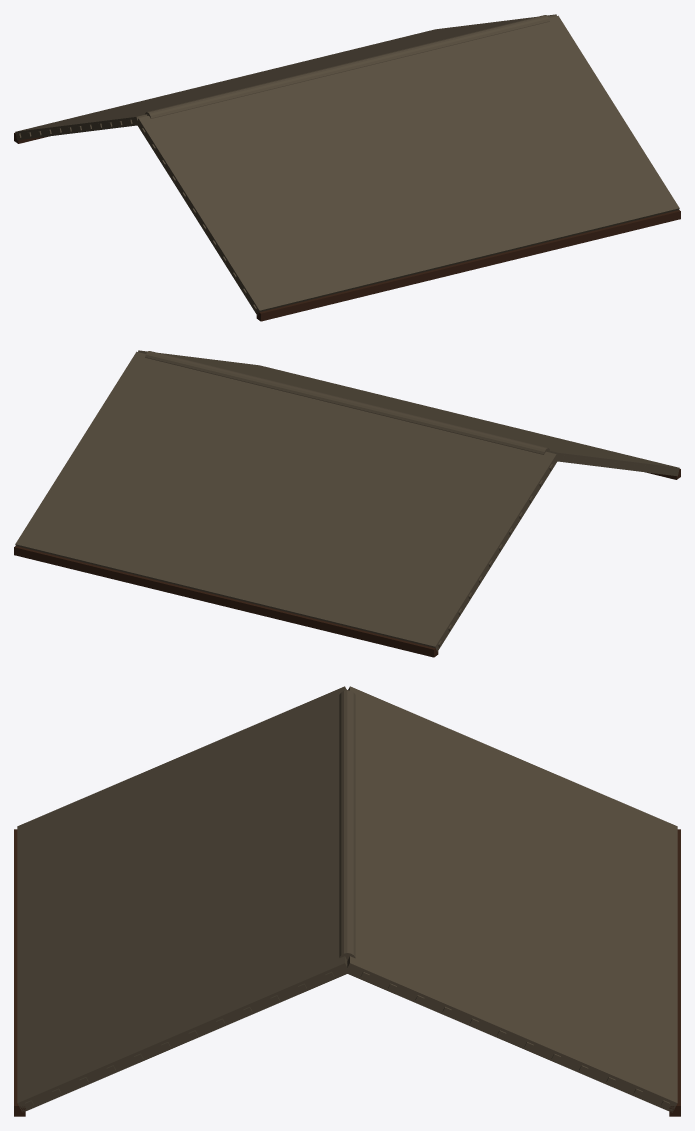
File: GalakasMidCity_ROF_W04D04_TiledGable_01.obj
3 renders of one model, top to bottom at view 1: azimuth 30°, elevation 25°; view 2: azimuth 150°, elevation 25°; view 3: azimuth 270°, elevation 25°, orthographic. The views are drawn at different scales.
Visible parts, largest first — view 1: roof_back_slope, roof_front_slope, roof_back_eave, roof_ridge_cap; view 2: roof_front_slope, roof_back_slope, roof_front_eave, roof_ridge_cap; view 3: roof_front_slope, roof_back_slope, roof_ridge_cap, roof_back_eave, roof_front_eave.
Part boxes in pixels (left/top/right/bottom): roof_back_slope: left=136, top=15, right=679, bottom=315; roof_front_slope: left=15, top=14, right=556, bottom=140; roof_back_eave: left=256, top=210, right=680, bottom=321; roof_ridge_cap: left=147, top=15, right=549, bottom=118; roof_front_slope: left=15, top=351, right=558, bottom=651; roof_back_slope: left=138, top=350, right=679, bottom=476; roof_front_eave: left=14, top=546, right=438, bottom=657; roof_ridge_cap: left=145, top=351, right=547, bottom=454; roof_front_slope: left=345, top=686, right=677, bottom=1112; roof_back_slope: left=17, top=686, right=348, bottom=1112; roof_ridge_cap: left=339, top=690, right=355, bottom=957; roof_back_eave: left=14, top=829, right=25, bottom=1116; roof_front_eave: left=669, top=829, right=680, bottom=1116.
Bounding box in the file's own units: 8.95 × 2.35 × 9.06.
